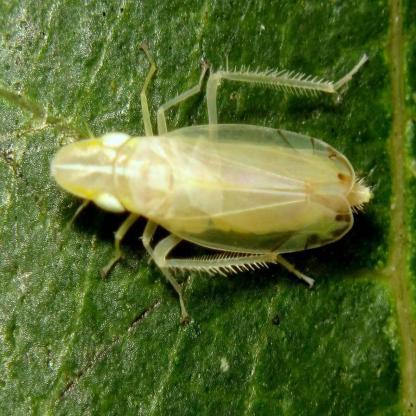green-leafhopper: (51, 114, 364, 264)
